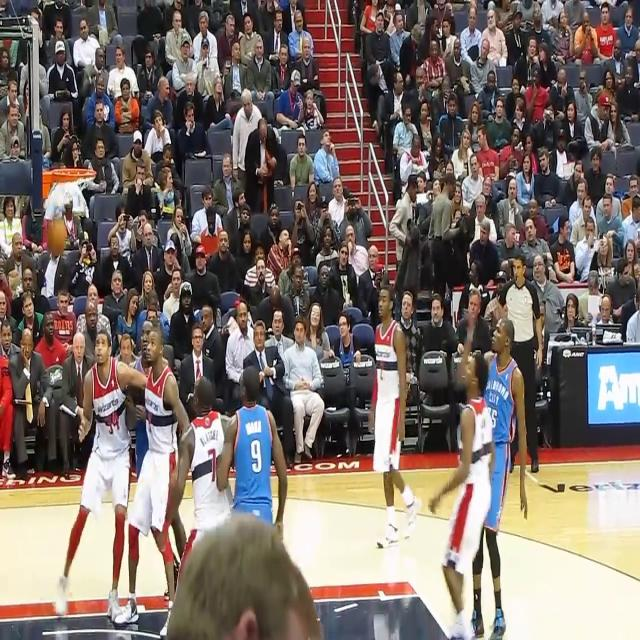ball: (47, 214, 69, 257)
